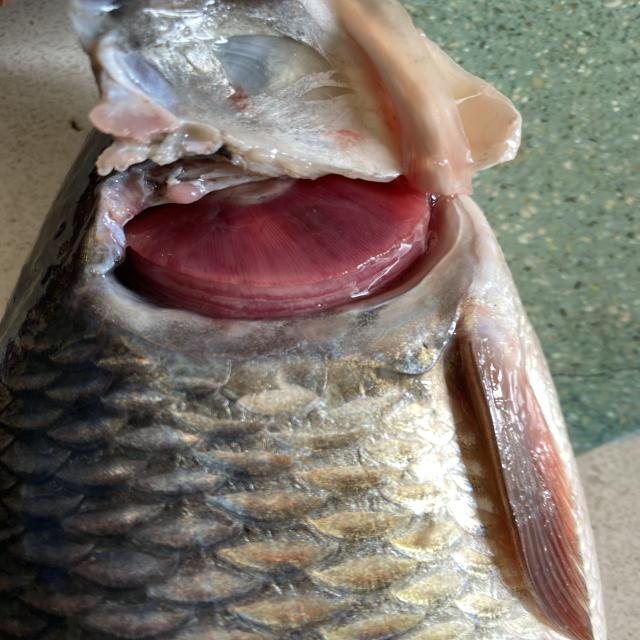Fresh: (92, 170, 475, 339)
